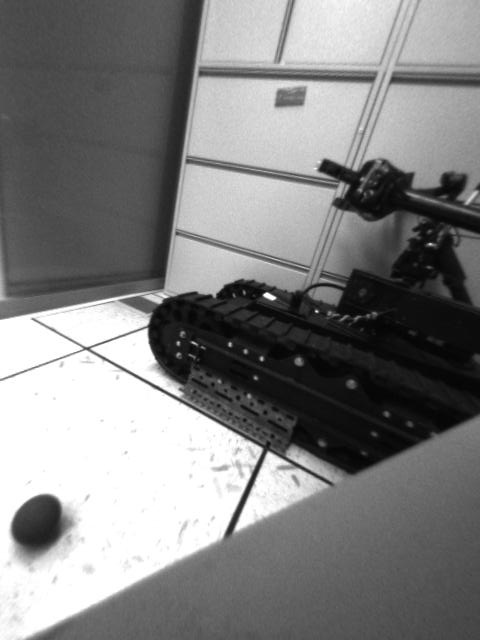dogtoy: (4, 487, 71, 554)
